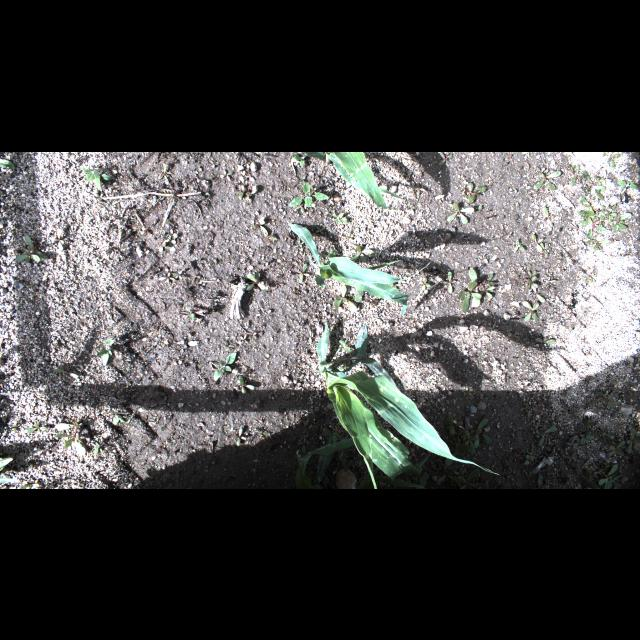crop: (294, 322, 462, 488), (286, 222, 430, 316), (301, 152, 404, 206)
weed: (53, 420, 87, 456), (290, 180, 330, 208), (436, 434, 469, 464), (577, 209, 609, 237), (14, 236, 46, 262), (78, 167, 114, 190), (457, 280, 481, 312), (581, 414, 609, 440), (593, 464, 621, 488), (214, 350, 236, 380), (252, 217, 278, 241), (472, 417, 492, 447), (471, 268, 495, 292), (446, 202, 474, 222), (602, 213, 632, 231), (580, 170, 606, 190), (534, 170, 562, 188), (97, 336, 113, 366), (349, 244, 375, 262), (464, 182, 486, 202), (596, 389, 618, 409), (444, 412, 462, 436), (537, 427, 557, 447), (569, 163, 587, 185), (604, 439, 626, 456), (322, 429, 348, 443), (460, 468, 480, 486), (522, 301, 538, 323), (247, 272, 266, 290), (332, 284, 346, 308), (626, 426, 638, 454), (238, 376, 256, 394), (341, 292, 357, 312), (530, 282, 546, 302), (442, 270, 456, 292), (53, 228, 65, 252), (466, 430, 478, 454), (594, 188, 610, 206), (158, 163, 172, 183), (476, 285, 496, 299), (600, 152, 620, 166), (582, 200, 602, 214), (234, 426, 246, 446), (588, 240, 612, 250), (618, 179, 638, 191), (597, 170, 611, 186), (412, 180, 426, 196), (524, 402, 538, 418), (25, 423, 47, 433), (543, 205, 553, 227), (332, 211, 350, 223), (158, 240, 176, 252), (353, 284, 365, 302), (604, 203, 616, 221), (54, 369, 80, 377), (532, 232, 542, 252), (439, 152, 453, 166), (0, 457, 14, 471), (526, 275, 540, 289), (418, 276, 430, 292), (167, 228, 179, 244), (218, 169, 234, 181), (386, 278, 402, 290), (298, 264, 308, 282), (1, 156, 16, 168), (238, 186, 252, 198), (292, 154, 306, 166), (340, 339, 352, 353), (572, 426, 586, 438), (93, 440, 103, 456), (304, 410, 314, 426), (298, 436, 308, 452), (16, 482, 40, 488), (160, 273, 174, 283), (534, 338, 556, 344), (540, 240, 548, 256), (506, 332, 520, 341), (455, 469, 465, 481), (528, 269, 538, 281), (545, 275, 557, 285), (488, 322, 498, 334), (566, 440, 578, 450), (113, 410, 121, 424), (186, 306, 194, 320), (306, 329, 314, 343), (588, 273, 598, 283), (566, 452, 576, 462), (526, 454, 534, 466), (516, 239, 524, 251), (172, 270, 184, 278), (208, 159, 220, 167), (12, 423, 20, 433), (315, 226, 325, 234), (240, 333, 248, 342), (331, 245, 339, 253)
